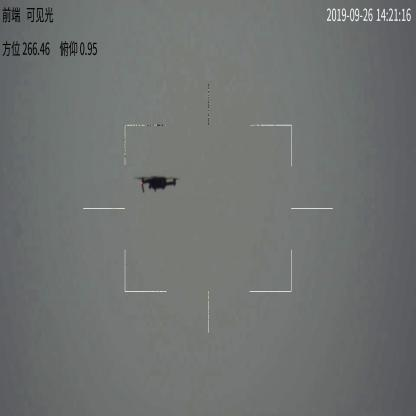uav: (133, 172, 180, 196)
